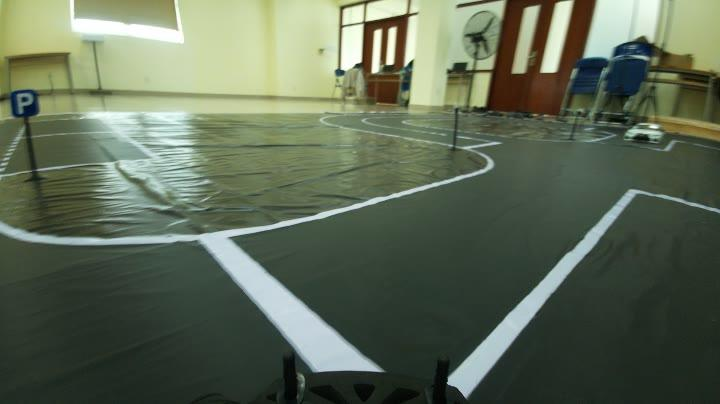parking: (8, 89, 46, 121)
